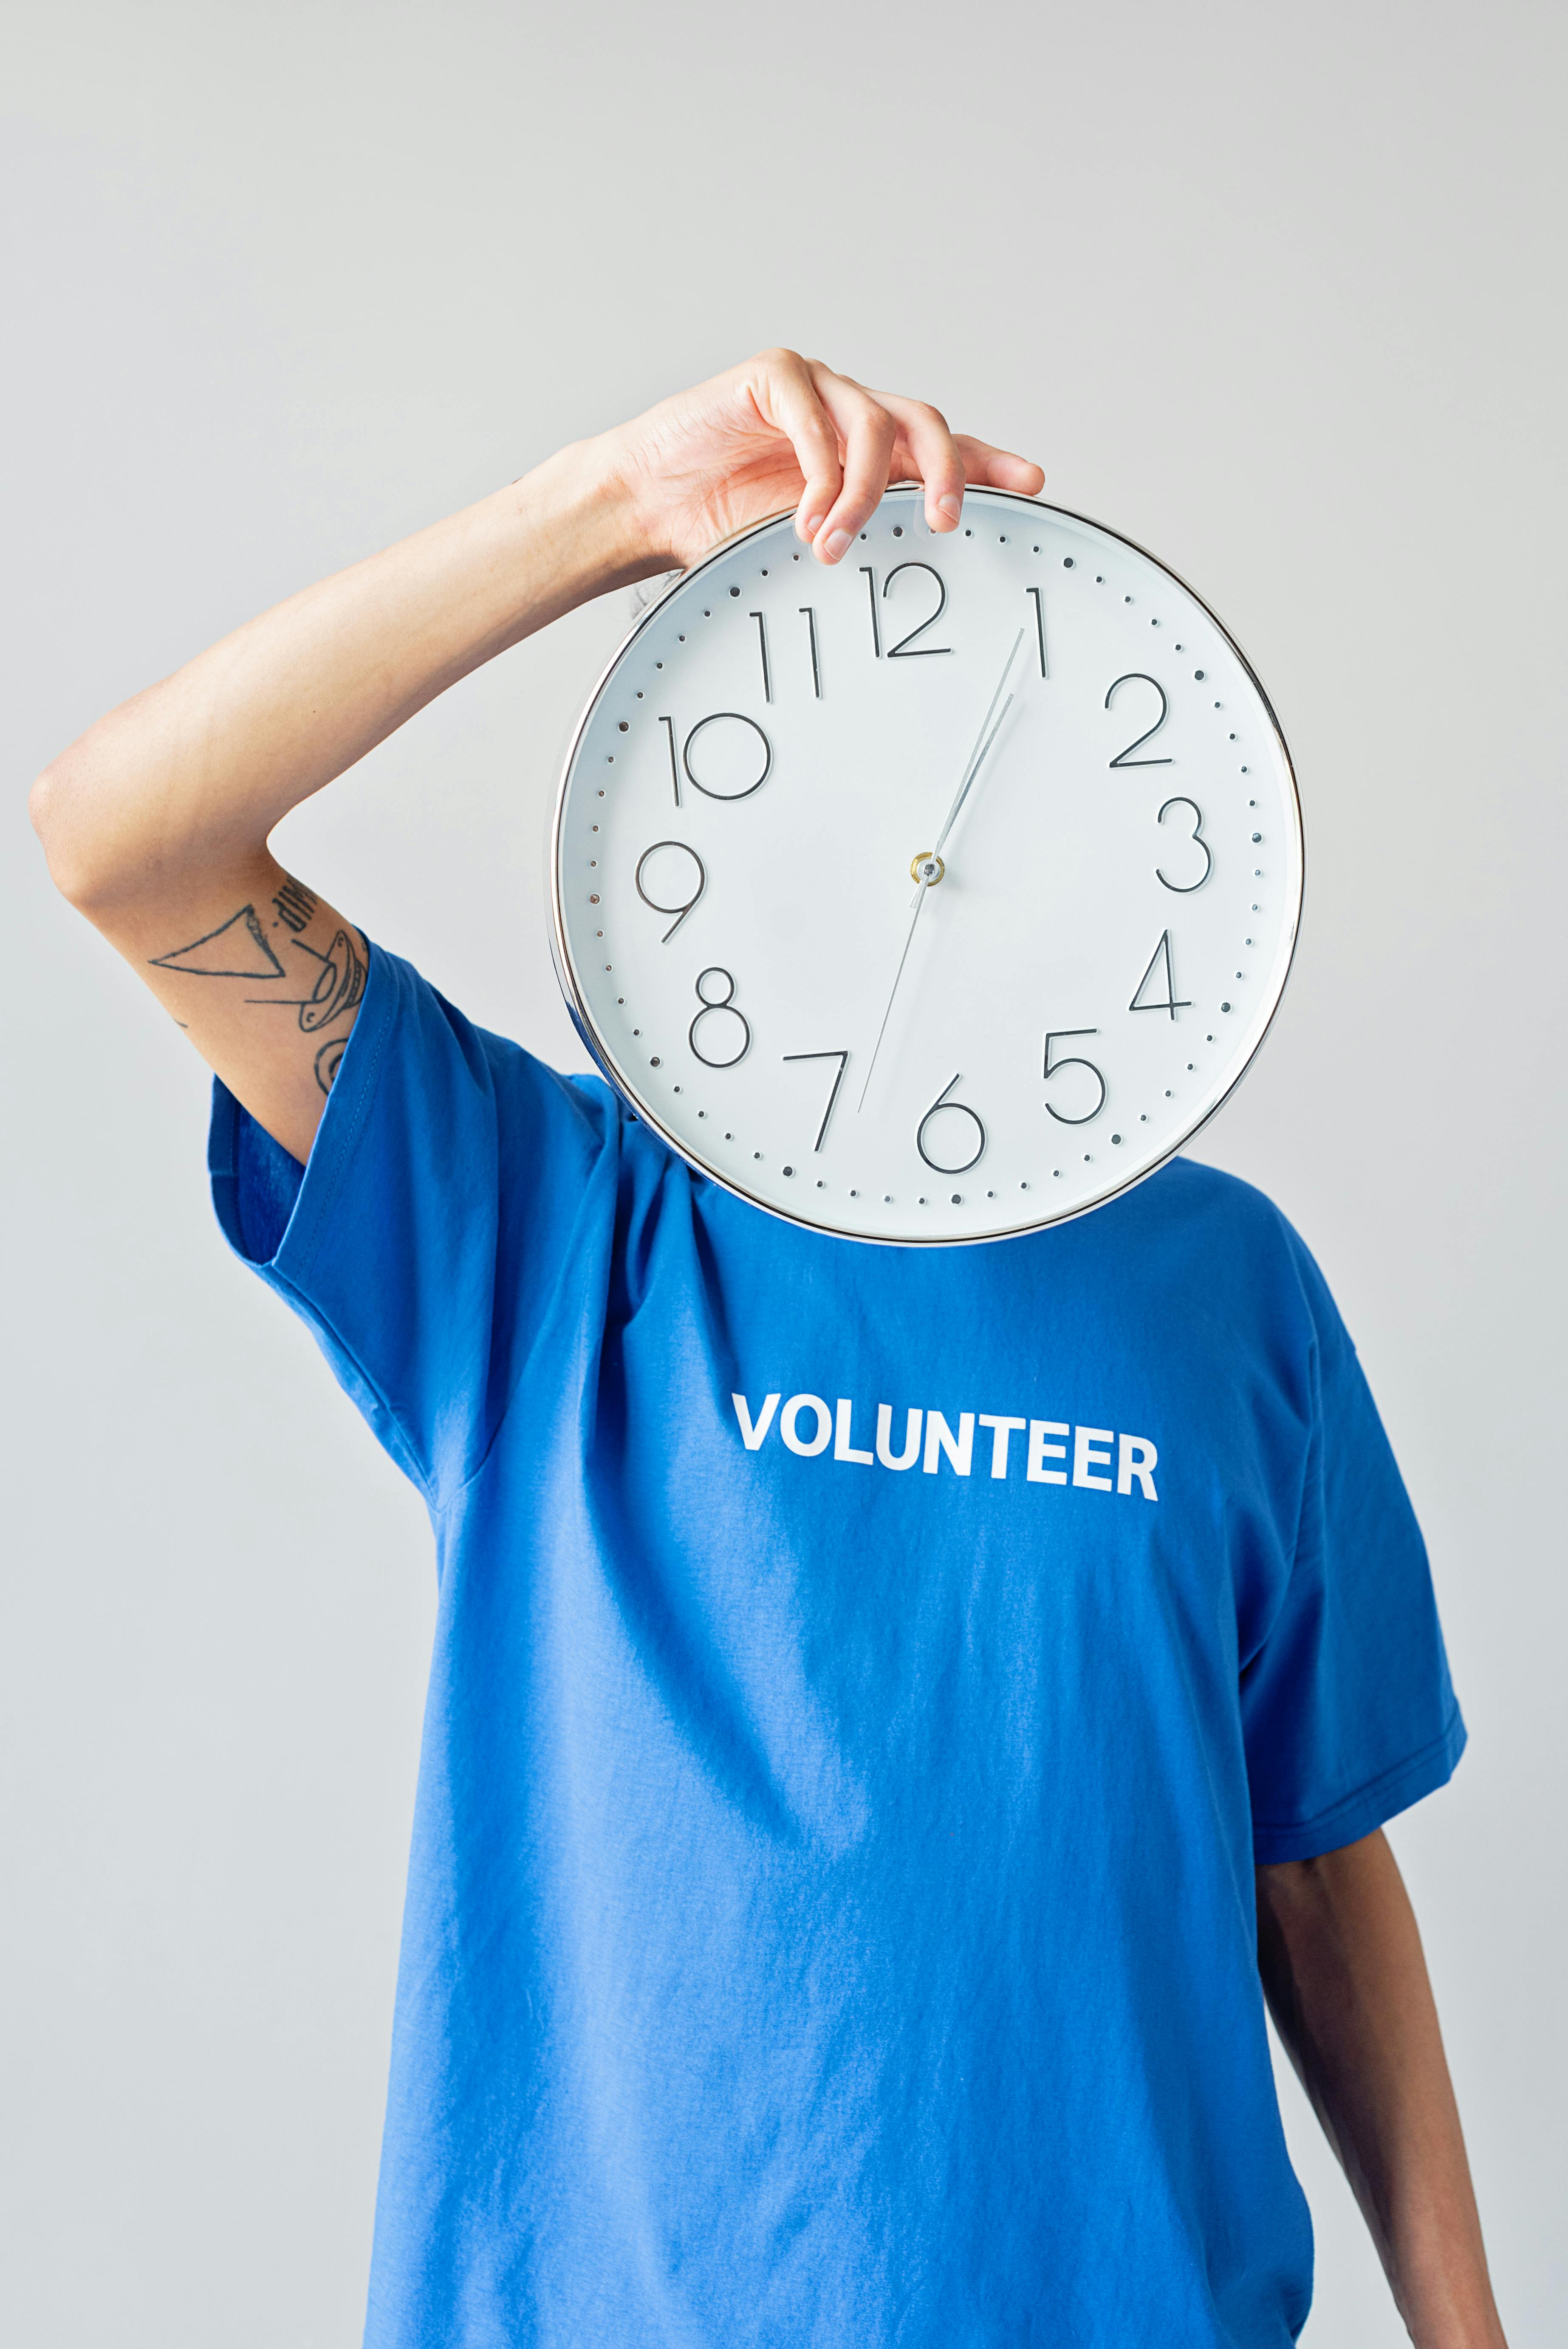clock: (613, 527, 1325, 1255)
